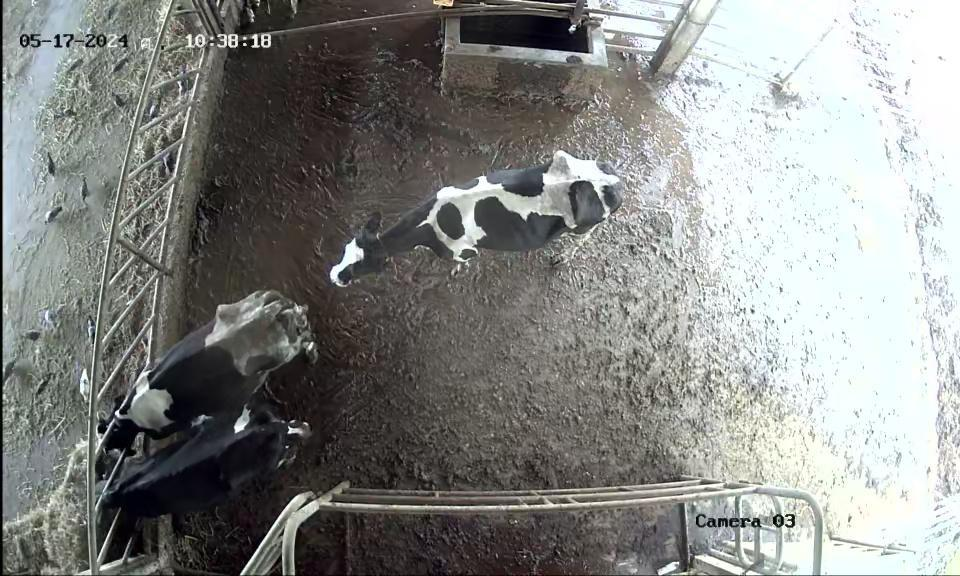eat: (44, 382, 155, 454), (61, 465, 165, 531)
stand: (323, 120, 659, 339)
